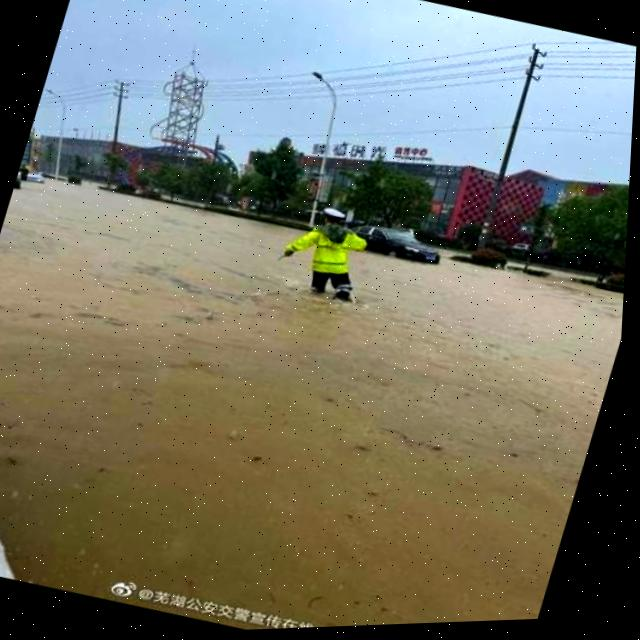rescuer: (256, 176, 404, 330)
